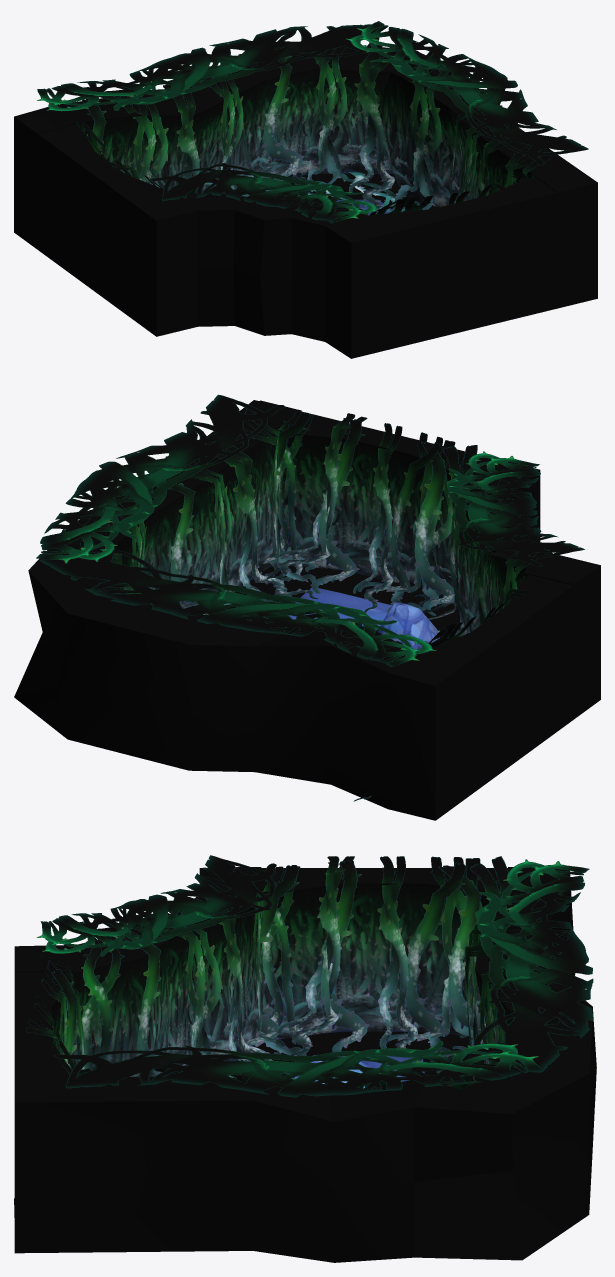
Rendered from Dungeon_012_RoadL_003.fbx.
The picture shows the model from 3 angles, top to bottom: view 1: azimuth 30°, elevation 25°; view 2: azimuth 150°, elevation 25°; view 3: azimuth 270°, elevation 25°; orthographic projection. The views are drawn at different scales.
Parts seen in each view (by area): view 1: Dan1, un_021_Door_002 (×2), Dungeon_021_Tsuta_002, Dungeon_021_Tsuta_001, un_021_Door_002_Object1 (×2), Dan1_shadow, Dungeon_021_Tsuta_003; view 2: Dan1, un_021_Door_002 (×2), Dungeon_021_Tsuta_002, un_021_Door_002_Object1 (×2), Dungeon_021_Tsuta_001, Dan1_shadow, Dungeon_011_Object_012, Dun_011_Door_002_shadow, Dan2; view 3: Dan1, Dungeon_021_Tsuta_002, un_021_Door_002_Object1 (×2), un_021_Door_002 (×2), Dungeon_021_Tsuta_001, Dan1_shadow, Dun_011_Door_002_shadow.
Boxes of the visible parts, box(x1,y1,x2,y2) form: Dan1: box(14, 47, 597, 358); un_021_Door_002 (×2): box(17, 113, 592, 348); Dungeon_021_Tsuta_002: box(37, 21, 588, 223); Dungeon_021_Tsuta_001: box(82, 45, 555, 215); un_021_Door_002_Object1 (×2): box(73, 120, 534, 216); Dan1_shadow: box(281, 173, 532, 316); Dungeon_021_Tsuta_003: box(261, 171, 405, 214); Dan1: box(14, 400, 600, 820); un_021_Door_002 (×2): box(243, 400, 596, 800); Dungeon_021_Tsuta_002: box(36, 394, 584, 667); un_021_Door_002_Object1 (×2): box(259, 411, 535, 801); Dungeon_021_Tsuta_001: box(80, 408, 549, 648); Dan1_shadow: box(223, 564, 460, 637); Dungeon_011_Object_012: box(376, 601, 439, 649); Dun_011_Door_002_shadow: box(318, 569, 424, 604); Dan2: box(289, 587, 391, 629); Dan1: box(14, 868, 596, 1262); Dungeon_021_Tsuta_002: box(36, 855, 593, 1097); un_021_Door_002_Object1 (×2): box(26, 856, 509, 1074); un_021_Door_002 (×2): box(14, 867, 561, 1097); Dungeon_021_Tsuta_001: box(78, 867, 559, 1089); Dan1_shadow: box(14, 1031, 484, 1217); Dun_011_Door_002_shadow: box(320, 1031, 424, 1054).
Size of what is drawn, in the model's own units: 7.27 by 2.36 by 7.14.
